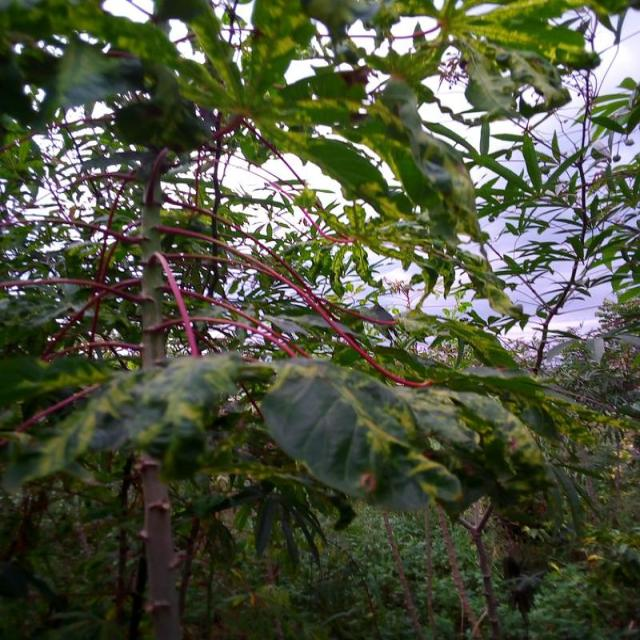cassava leaf: (259, 356, 553, 518)
